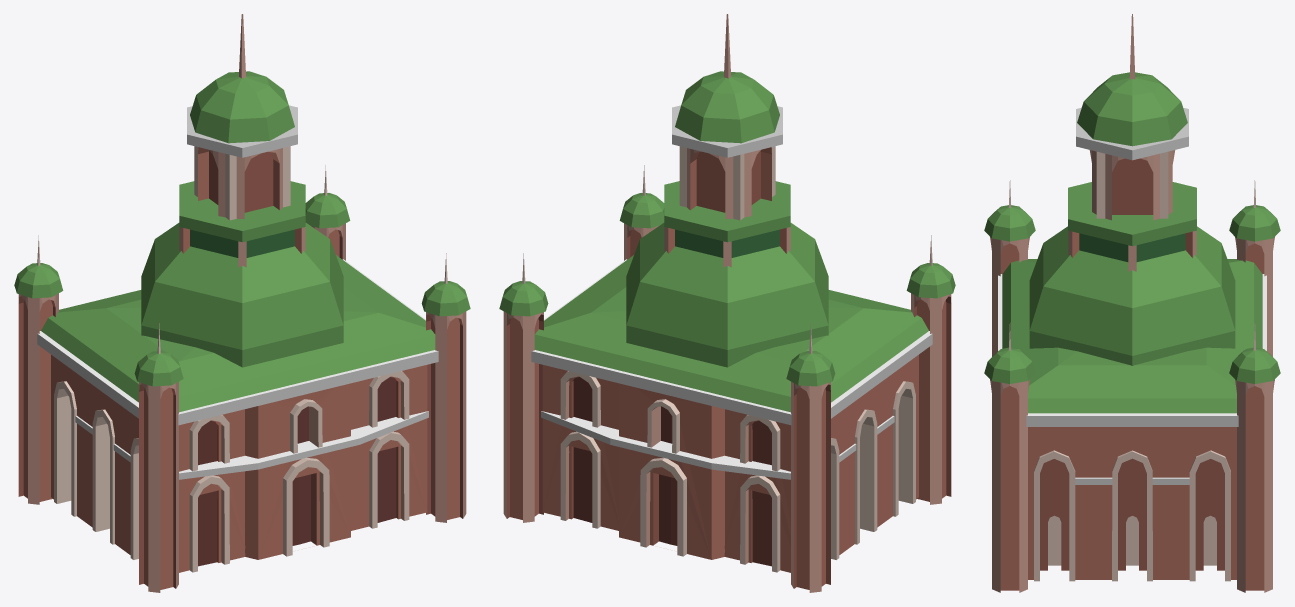
File: temple_005.fbx
3 renders of one model, left to right at view 1: azimuth 30°, elevation 25°; view 2: azimuth 150°, elevation 25°; view 3: azimuth 270°, elevation 25°, orthographic.
Parts seen in each view (by area): view 1: temple_005; view 2: temple_005; view 3: temple_005.
Part boxes in pixels (x1,y1,x2,y2): temple_005: (14,14,470,592); temple_005: (499,14,955,592); temple_005: (984,14,1280,592).
Bounding box in the file's own units: 1534 × 2176 × 1170.
